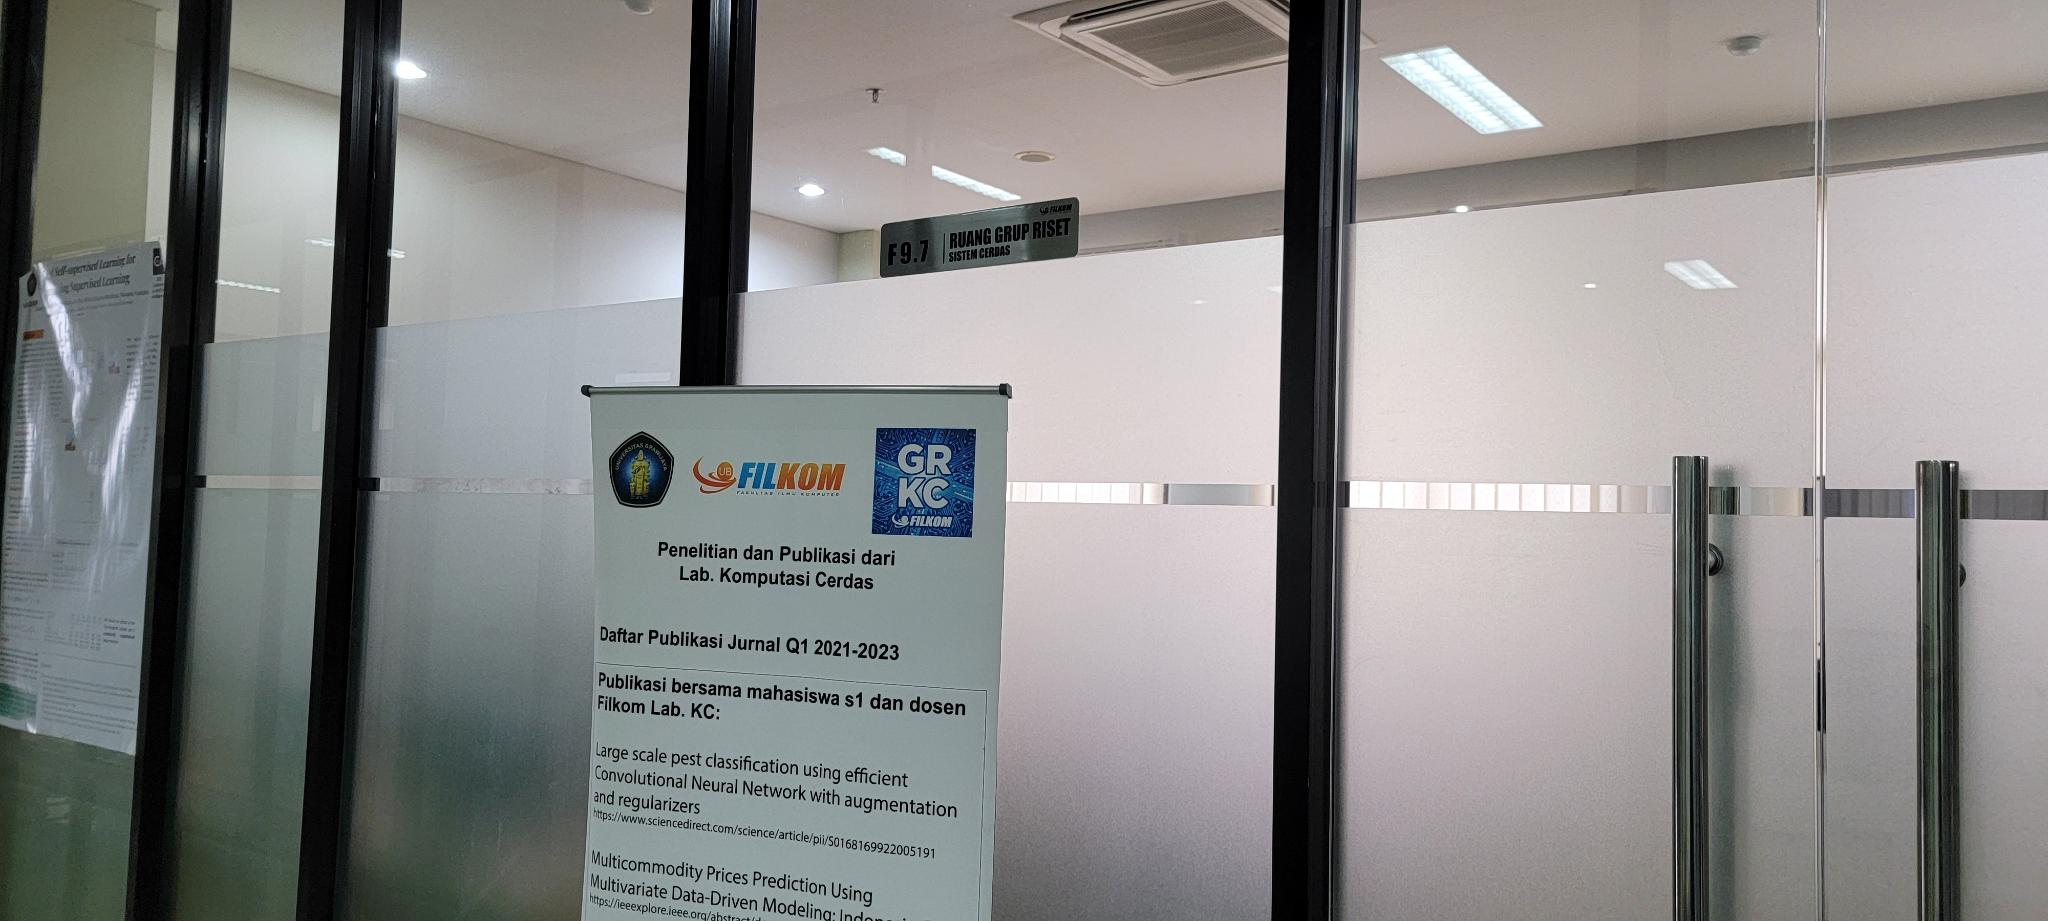plate: (875, 193, 1080, 280)
